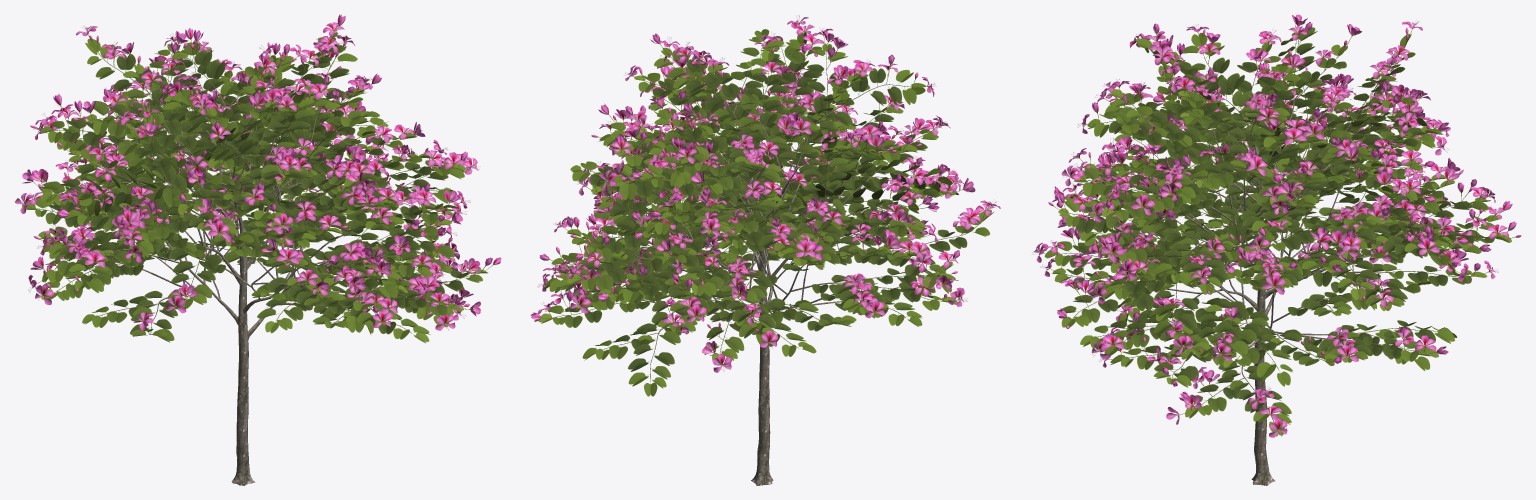
Rendered from realistic_hd_hong_kong_orchid_tree_140.glb.
3 renders of one model, left to right at view 1: azimuth 30°, elevation 25°; view 2: azimuth 150°, elevation 25°; view 3: azimuth 270°, elevation 25°, orthographic. The views are drawn at different scales.
Parts seen in each view (by area): view 1: Bauhinia_blakeana_HD; view 2: Bauhinia_blakeana_HD; view 3: Bauhinia_blakeana_HD.
Part boxes in pixels (x1,y1,x2,y2): Bauhinia_blakeana_HD: (15, 14, 501, 485); Bauhinia_blakeana_HD: (530, 15, 1000, 485); Bauhinia_blakeana_HD: (1032, 14, 1521, 485).
Size of the model in its own units: 3.87 by 3.74 by 3.79.
17 materials, 17 textured.
